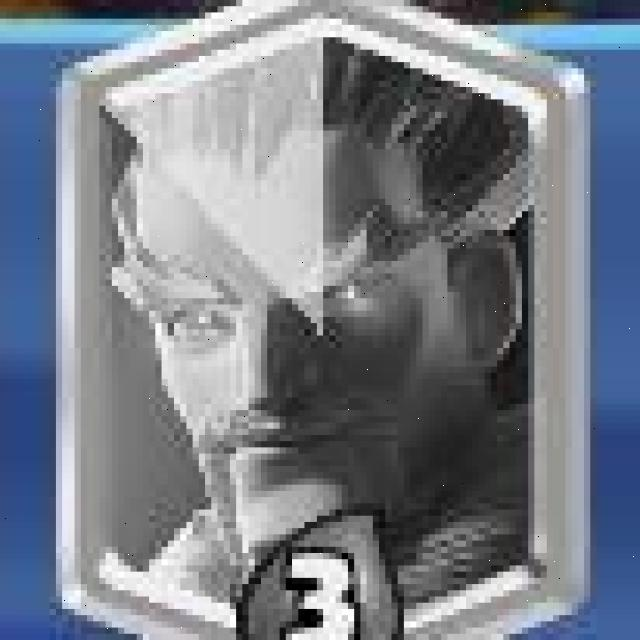Ice_Wizard: (67, 6, 589, 634)
